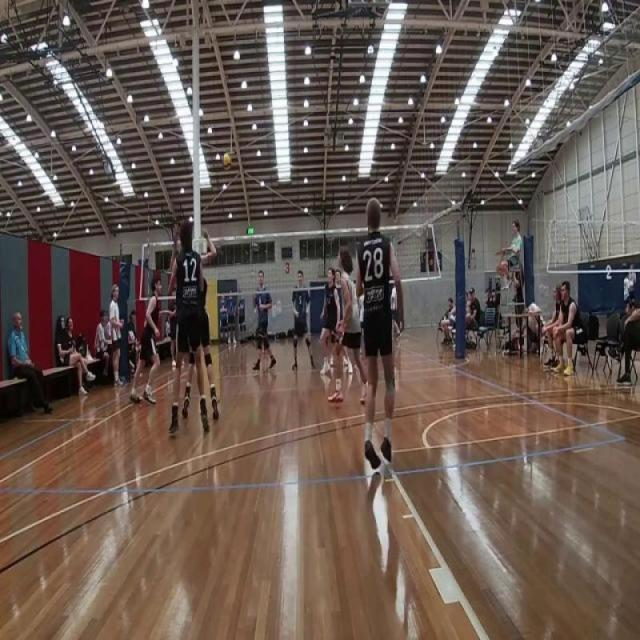volleyball: (221, 152, 233, 172)
